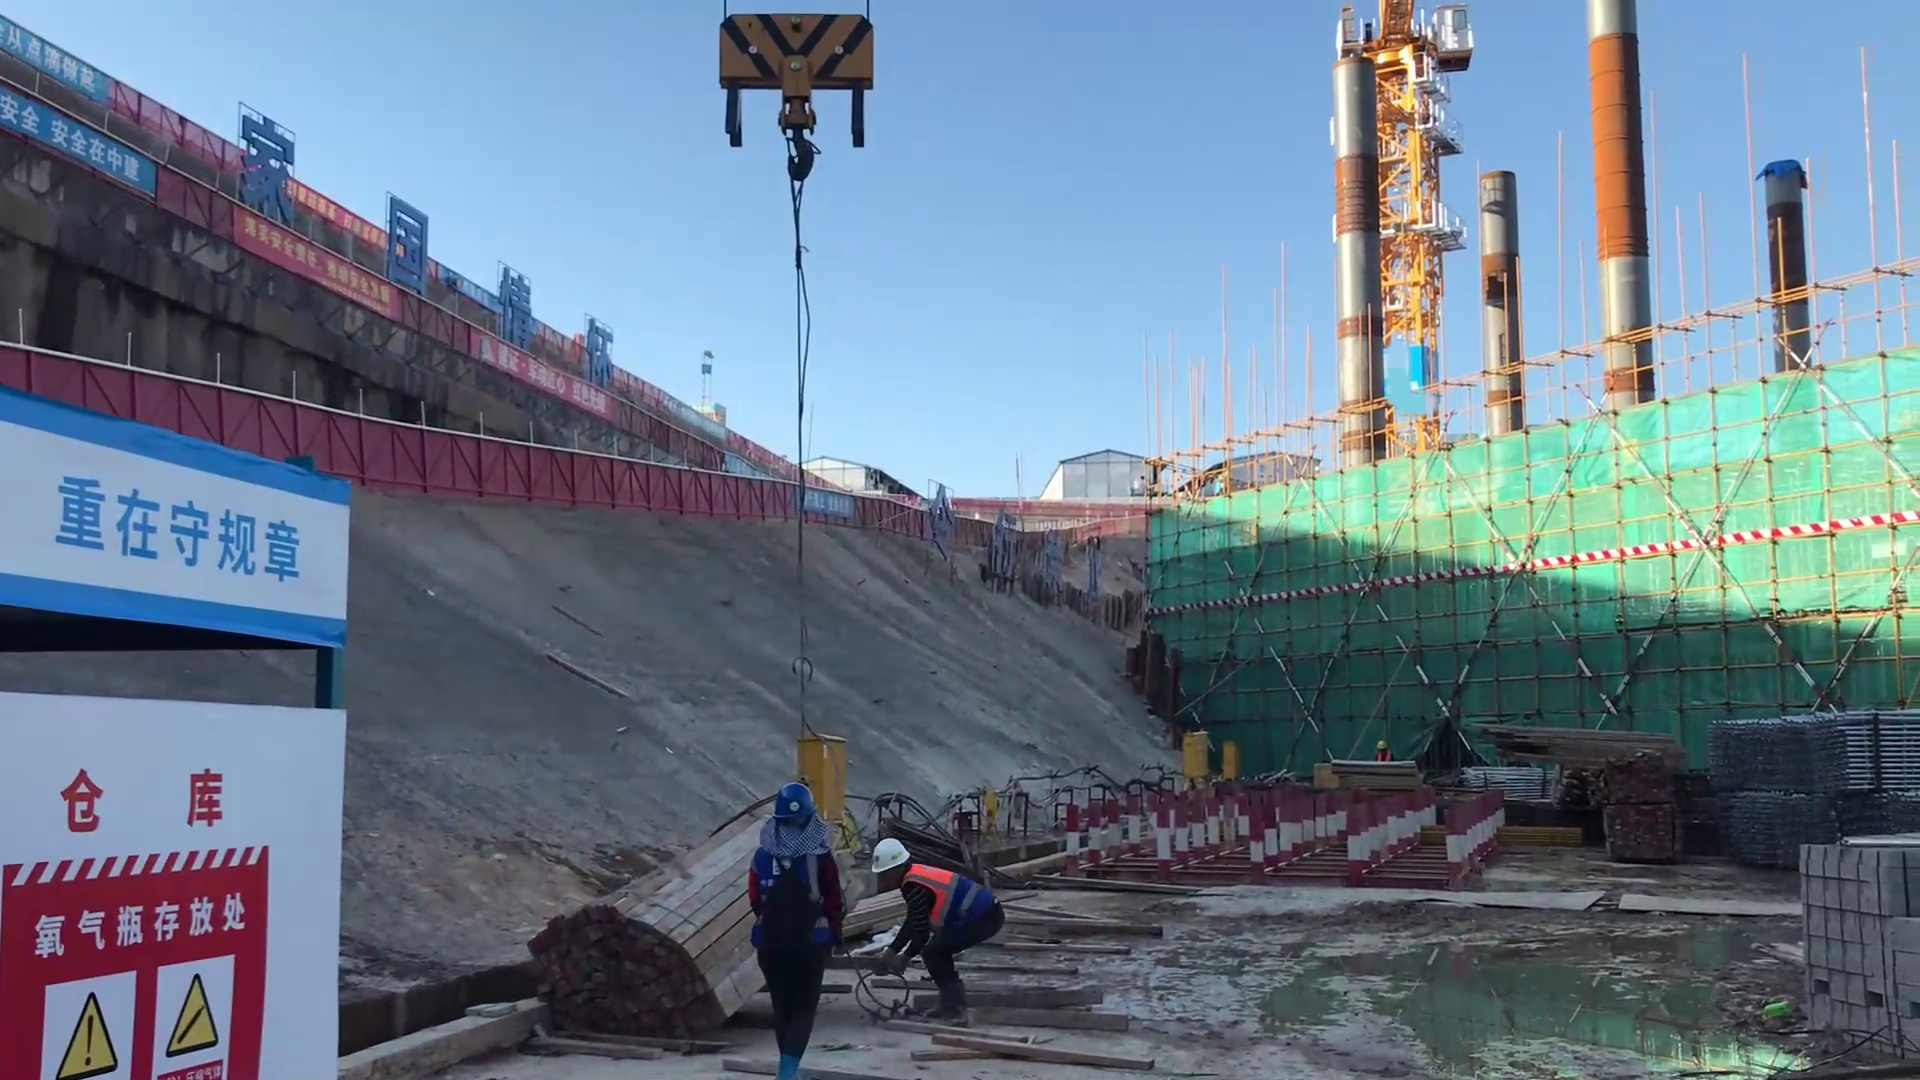brick: (1788, 831, 1920, 1042)
ebox: (792, 730, 847, 822), (1174, 726, 1210, 781), (1218, 741, 1237, 780)
fence: (314, 413, 651, 512), (647, 464, 818, 524)
helmet: (759, 778, 815, 827), (865, 832, 912, 874)
hook: (722, 7, 871, 146)
person: (740, 785, 843, 1080), (860, 831, 1009, 1029), (1371, 737, 1395, 762)
scaffold: (1711, 709, 1920, 788)
slogan: (25, 852, 240, 1080), (60, 452, 312, 604), (1, 88, 191, 230)
vest: (909, 866, 955, 903)
wood: (510, 874, 747, 1060), (1469, 711, 1673, 777)
